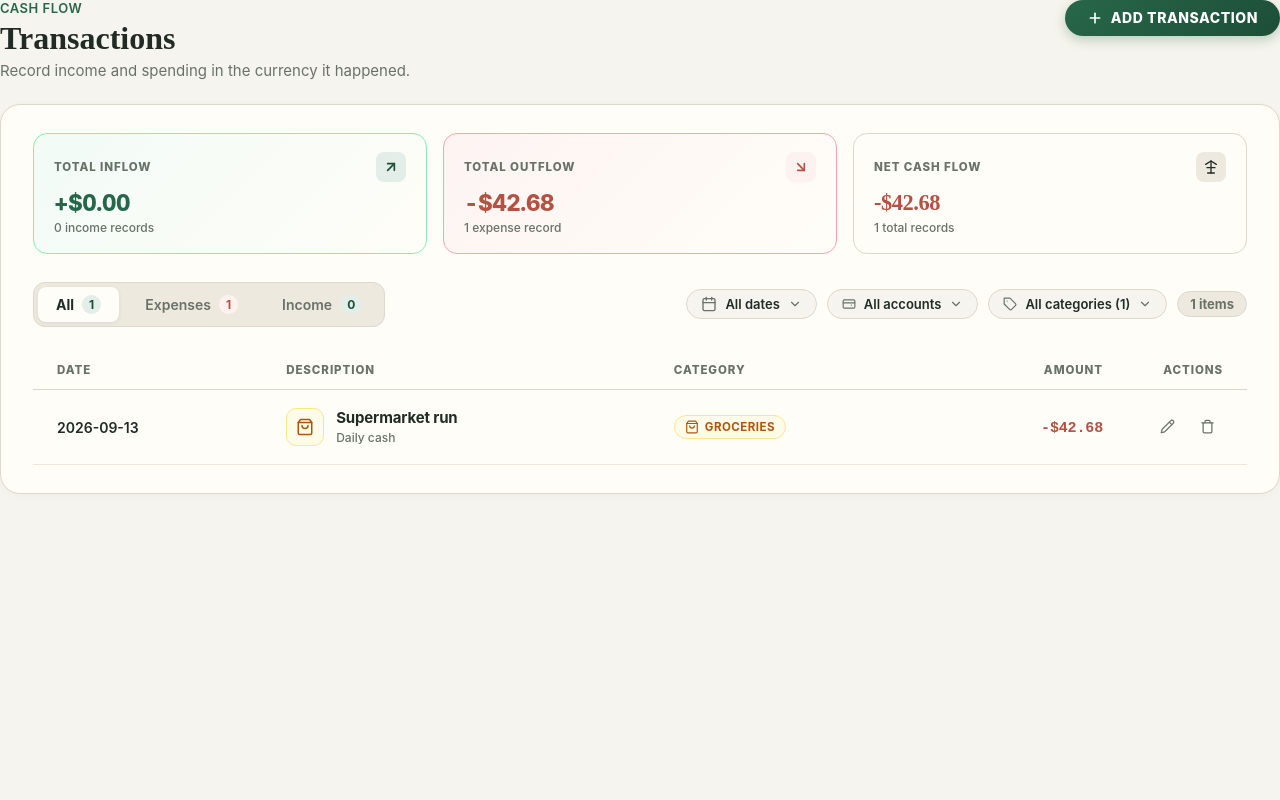
Test: FinancialRecordsView › opens edit modal when edit button is clicked and updates transaction
Click the button named "Edit Supermarket run". click: (1167,427)
box: [1151,411,1183,443]
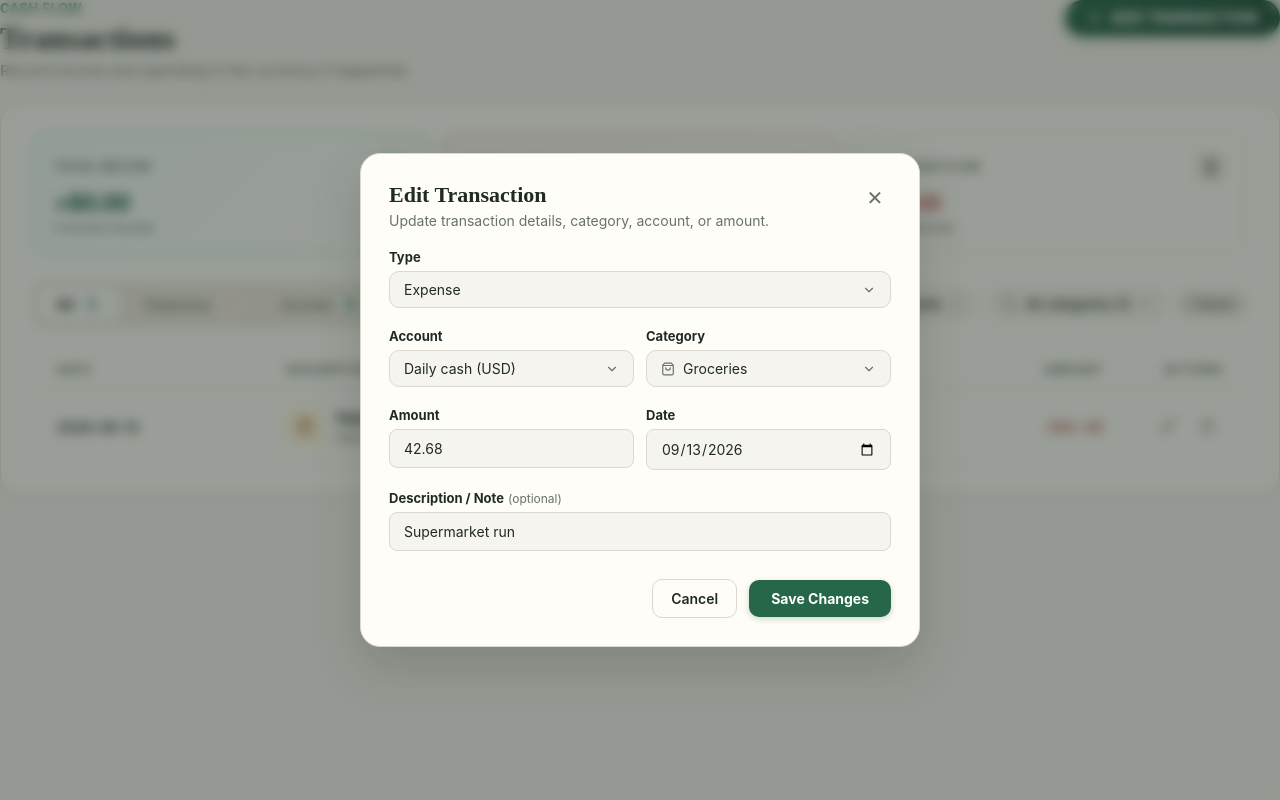
Expected: the dialog is shown, [360,153,920,647]
Expected: the heading "Edit Transaction" is shown, [389,182,546,207]
Replace the text in the field labelled "Description / Note (optional)" with "Organic market". click: (640,532)
box: [389,512,891,551]
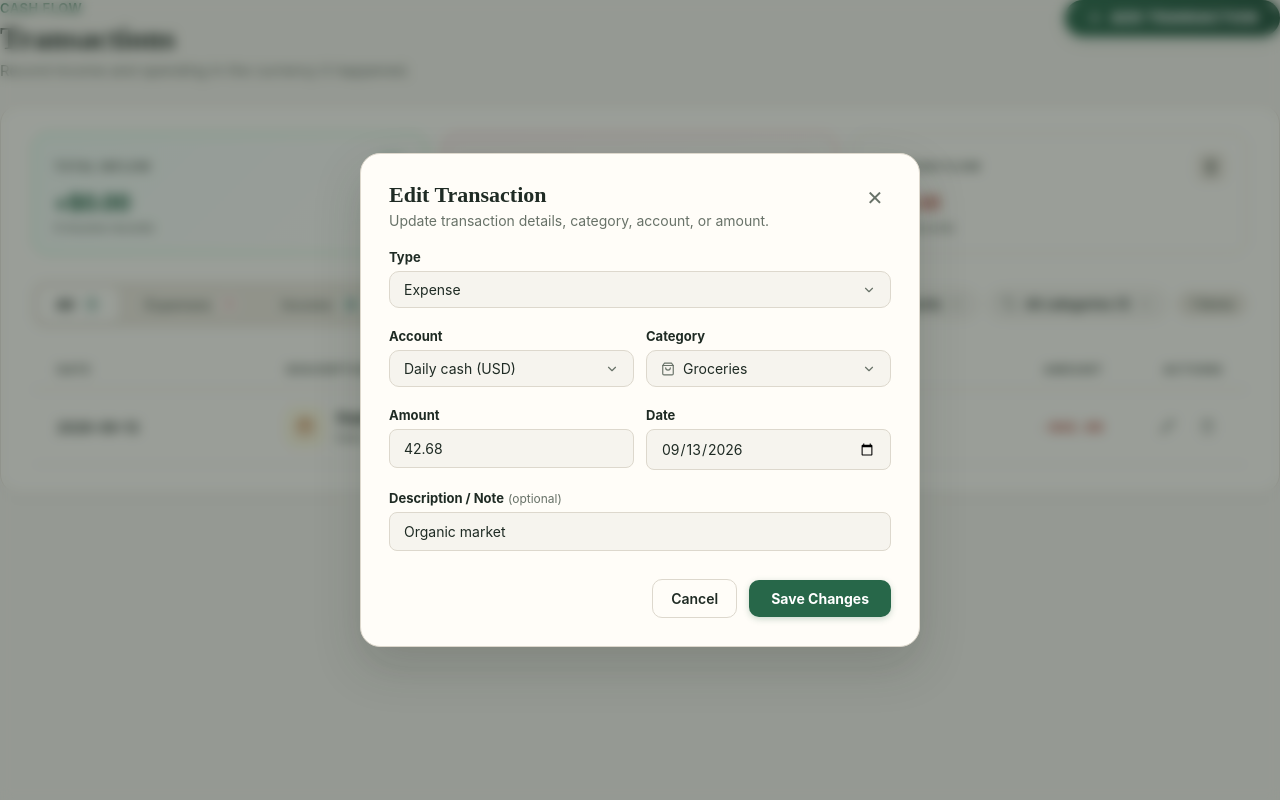
Replace the text in the field labelled "Amount" with "50.00". click: (512,448)
box: [389,429,634,468]
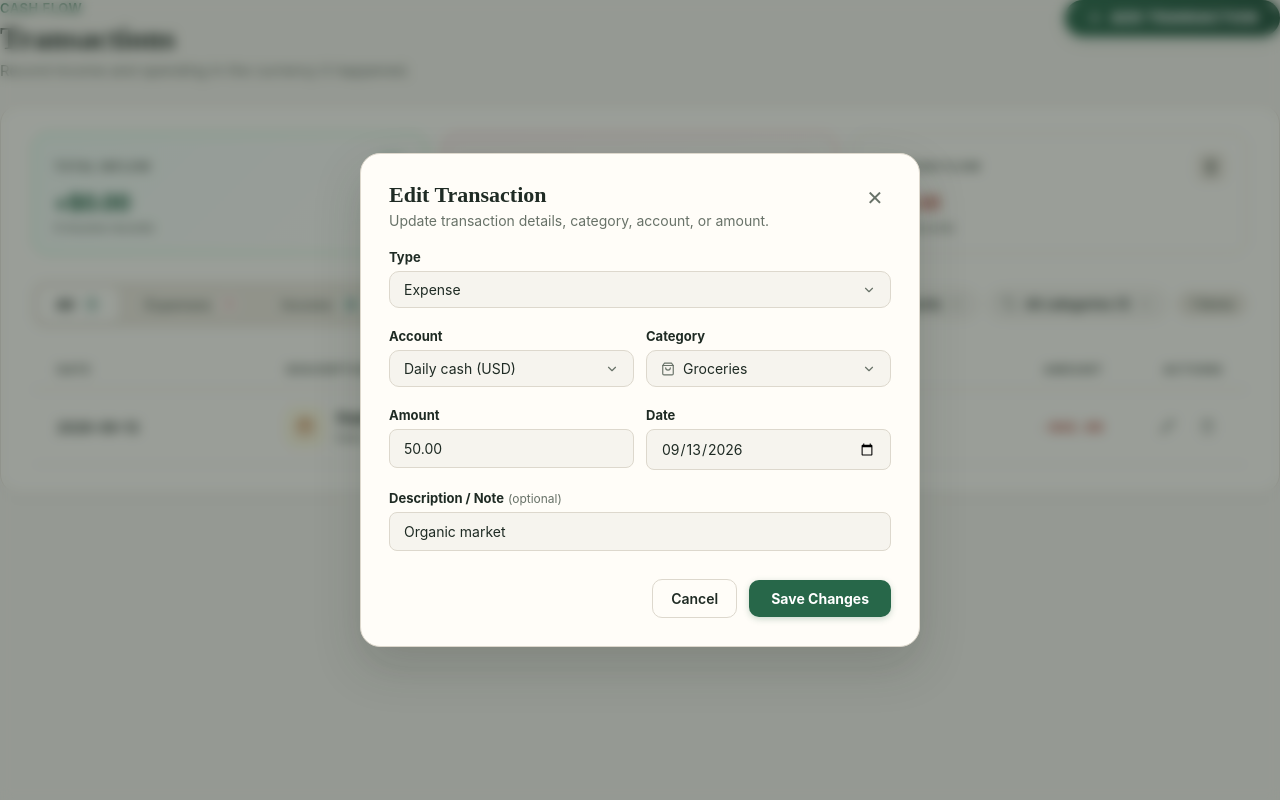
Click the button "Save Changes". click: (820,598)
box: [749,580,891,617]
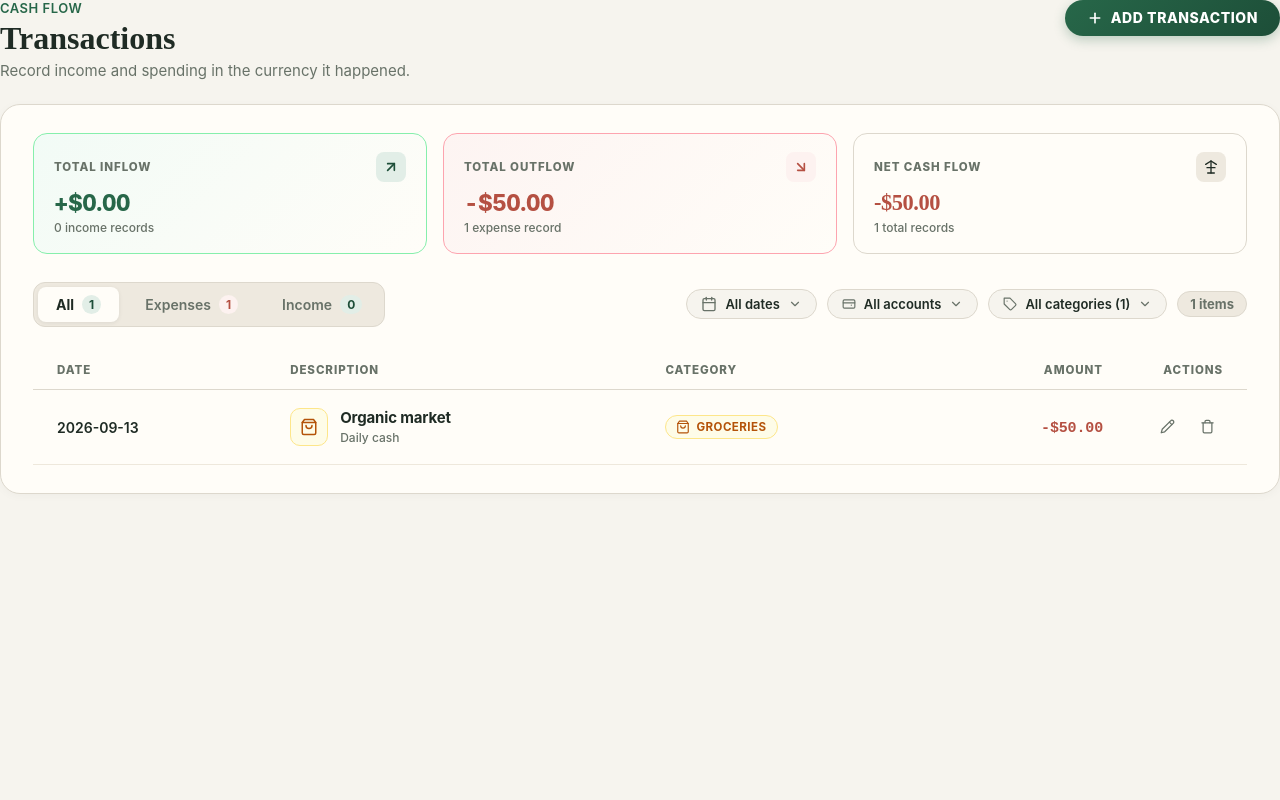
Expected: the dialog is gone
Expected: the text "Organic market" is shown, [340,408,451,427]
Expected: the text "-$50.00" in the row of "2026-09-13" is shown, [1041,420,1103,437]
